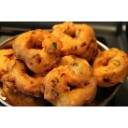vada: (41, 60, 94, 105), (14, 27, 62, 71), (52, 21, 95, 59), (8, 56, 45, 97), (94, 47, 128, 88)
